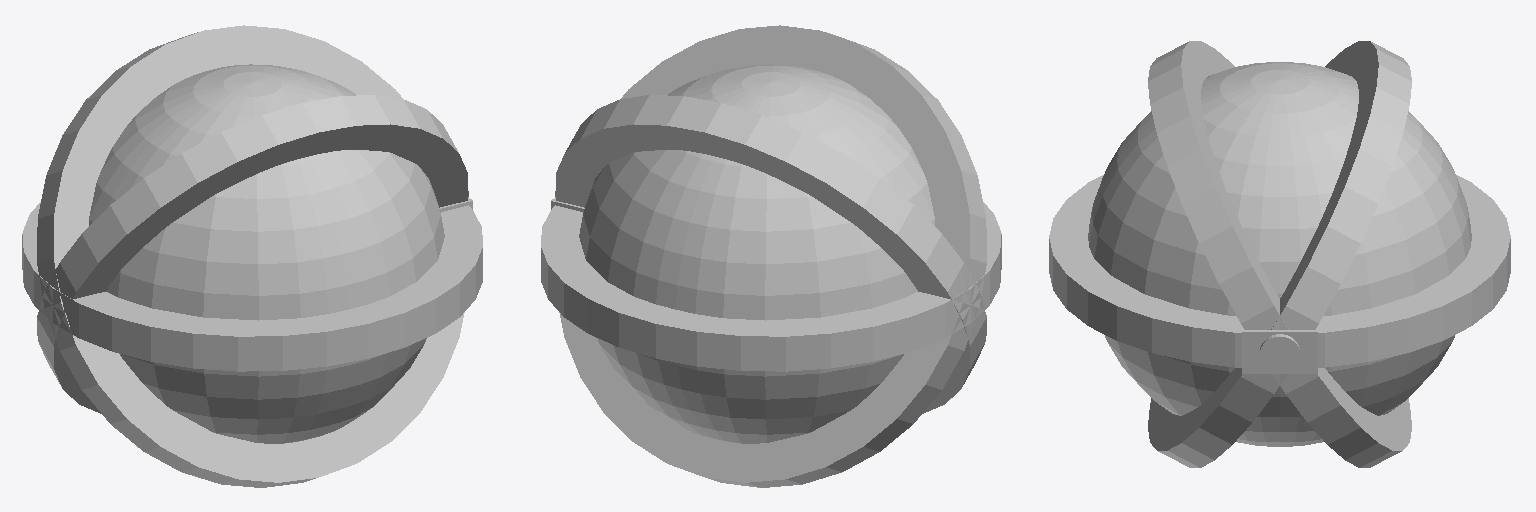
Rendered from DuplicateModel.obj.
The picture shows the model from 3 angles: view 1: azimuth 30°, elevation 25°; view 2: azimuth 150°, elevation 25°; view 3: azimuth 270°, elevation 25°; orthographic projection.
Visible parts, largest first — view 1: SurfSphere, Cylinder.001, Cylinder.002, Cylinder; view 2: SurfSphere, Cylinder.002, Cylinder.001, Cylinder; view 3: SurfSphere, Cylinder, Cylinder.002, Cylinder.001, Cube_Cube.001, Cylinder.003.
Boxes of the visible parts, <box> form: SurfSphere: <box>89,64,444,443</box>; Cylinder.001: <box>37,25,464,487</box>; Cylinder.002: <box>37,95,468,413</box>; Cylinder: <box>22,202,482,371</box>; SurfSphere: <box>579,64,934,443</box>; Cylinder.002: <box>559,25,986,487</box>; Cylinder.001: <box>555,95,986,413</box>; Cylinder: <box>541,202,1001,371</box>; SurfSphere: <box>1088,62,1471,446</box>; Cylinder: <box>1049,175,1510,367</box>; Cylinder.002: <box>1148,41,1411,467</box>; Cylinder.001: <box>1148,41,1411,467</box>; Cube_Cube.001: <box>1242,326,1317,373</box>; Cylinder.003: <box>1260,334,1299,373</box>.
Size of the model in its own units: 0.6095 by 0.5446 by 0.6.